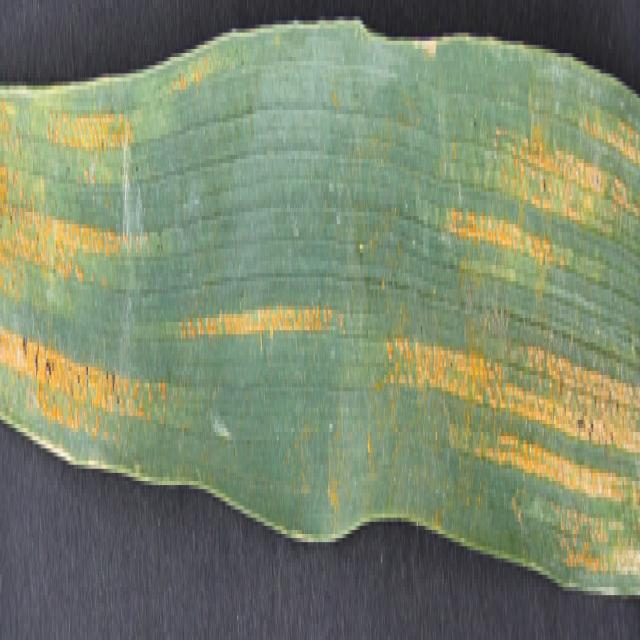leaf rust: (384, 33, 640, 583), (0, 94, 176, 497), (182, 216, 352, 408)
